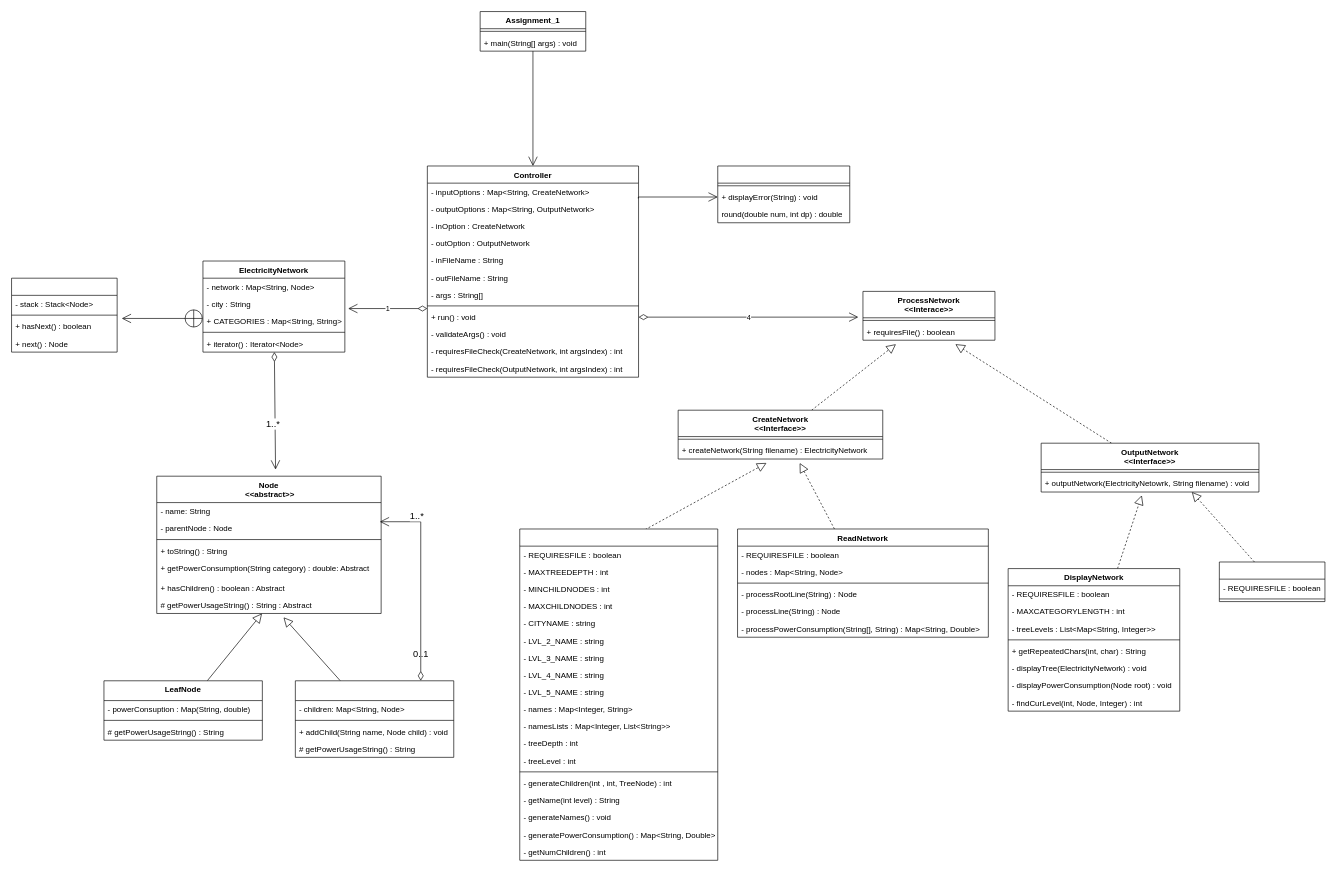
The diagram is 1337 pixels wide and 874 high, and some of its shapes have lost their labels. The shapes that lost their labels are listed below. From the top down, each one's box as (x1, y1, x2, y2) in pixels, then its label:
(717, 165, 850, 223): UserInterface
(11, 278, 117, 352): PowerNetworkIterator
(1219, 561, 1325, 602): WriteNetwork
(519, 528, 718, 860): GenerateNetwork
(295, 680, 454, 757): TreeNode
